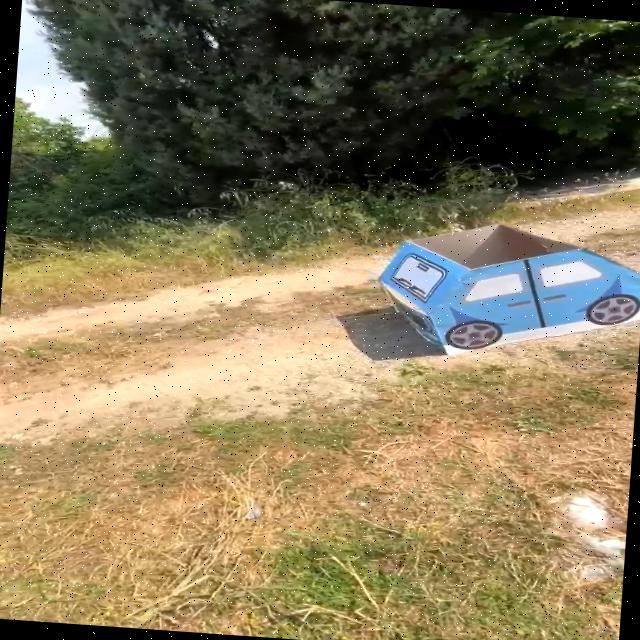blue_car: (354, 202, 640, 379)
